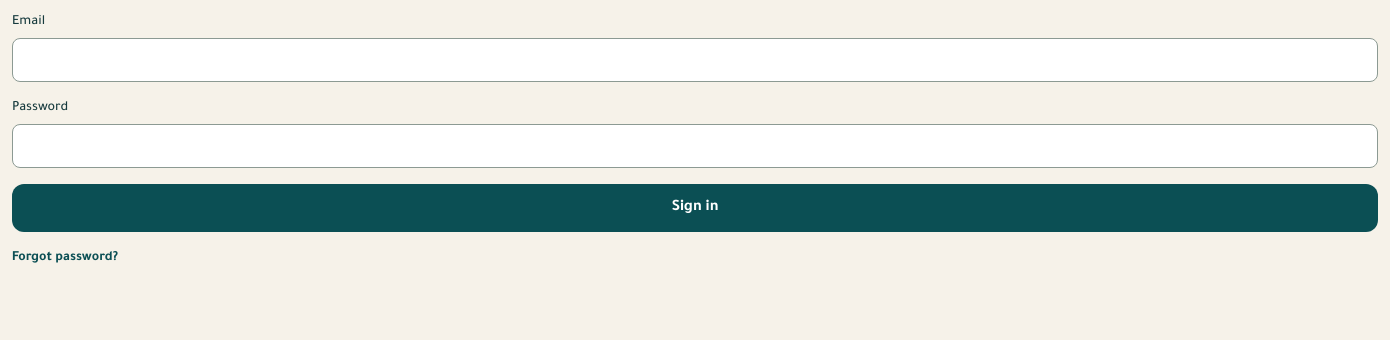
Test: LoginForm › shows the lockout in minutes from retry_after_seconds
Type "lina@example.test" into the field labelled "Email".
click(695, 60); type("lina@example.test")  # box [12, 38, 1378, 82]
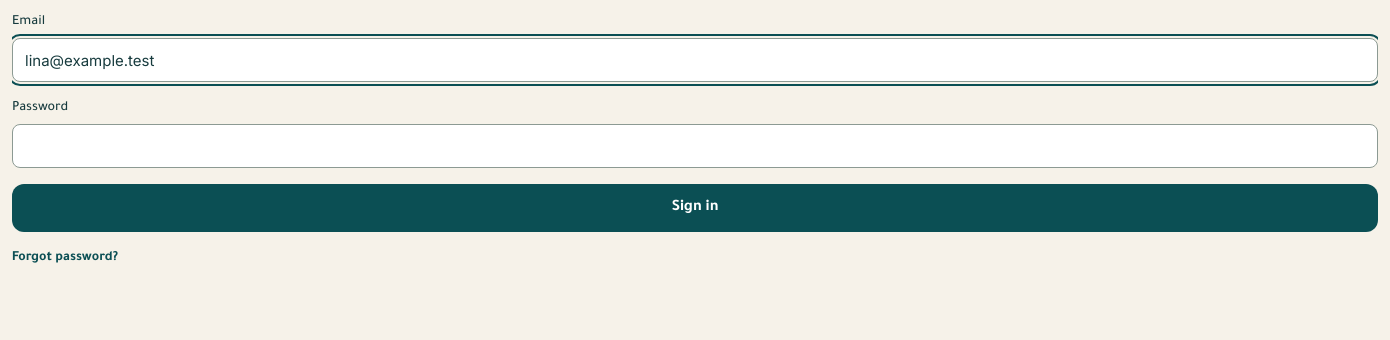
Type "correct horse" into the password field labelled "Password".
click(695, 146); type("correct horse")  # box [12, 124, 1378, 168]
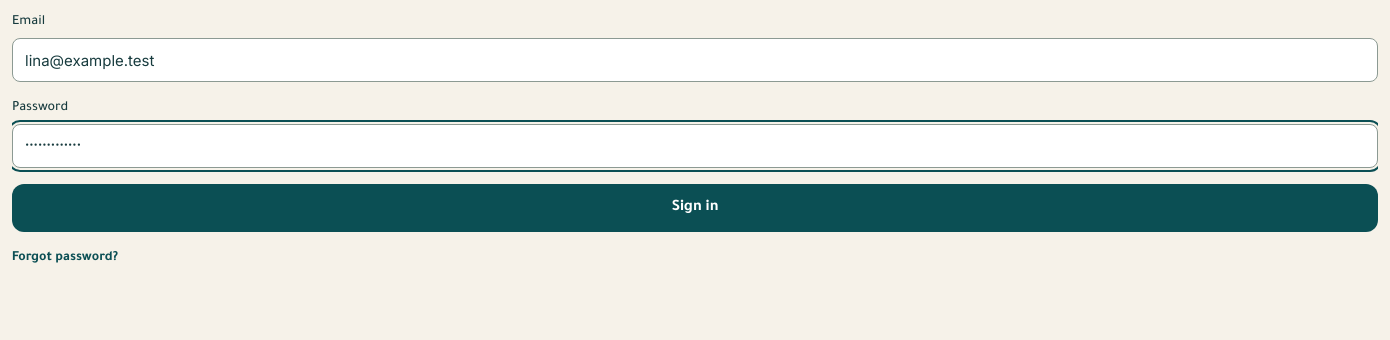
Click the button "Sign in".
click(695, 208)  # box [12, 184, 1378, 232]
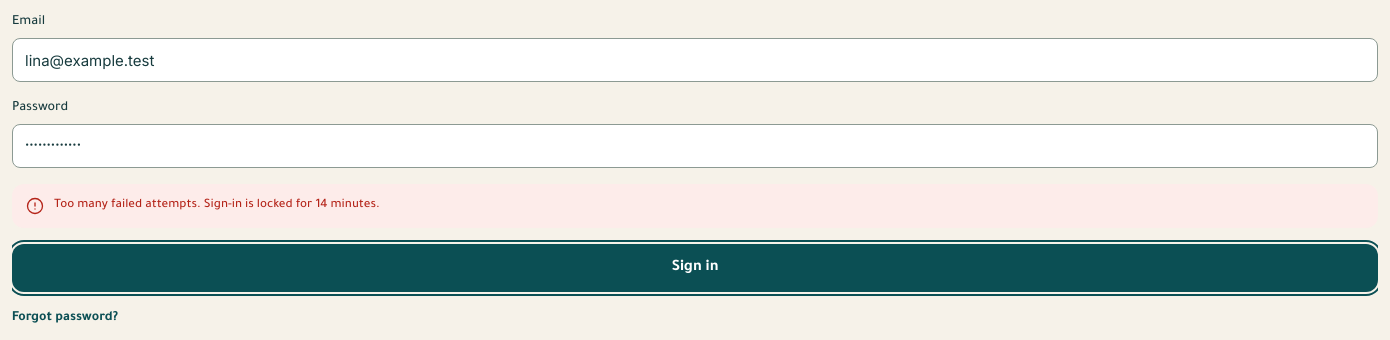
expect the text "Too many failed attempts. Sign-in is locked for 14 minutes." is shown: met, box [54, 199, 380, 212]
